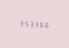five: (22, 19, 26, 27)
six: (38, 20, 42, 28), (43, 20, 47, 28)
three: (17, 18, 21, 27), (33, 19, 37, 28), (28, 19, 32, 27)
